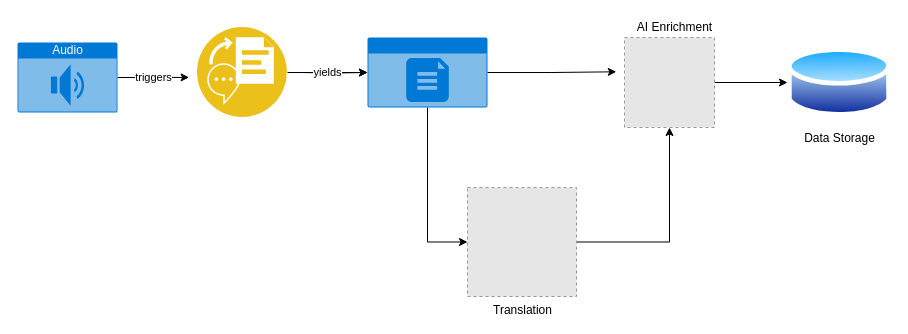
This 908x334 diagram has some shape labels left out. Grey dashed boxes stand in for pictures. The centre of each missing label's shape, as x and y in pixels:
Document: the point at 427,72
Speech-to-text: the point at 242,72
